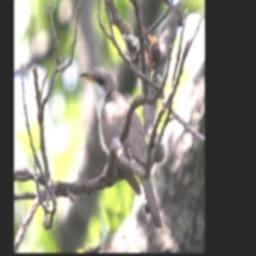Cuckoo: (78, 61, 162, 234)
